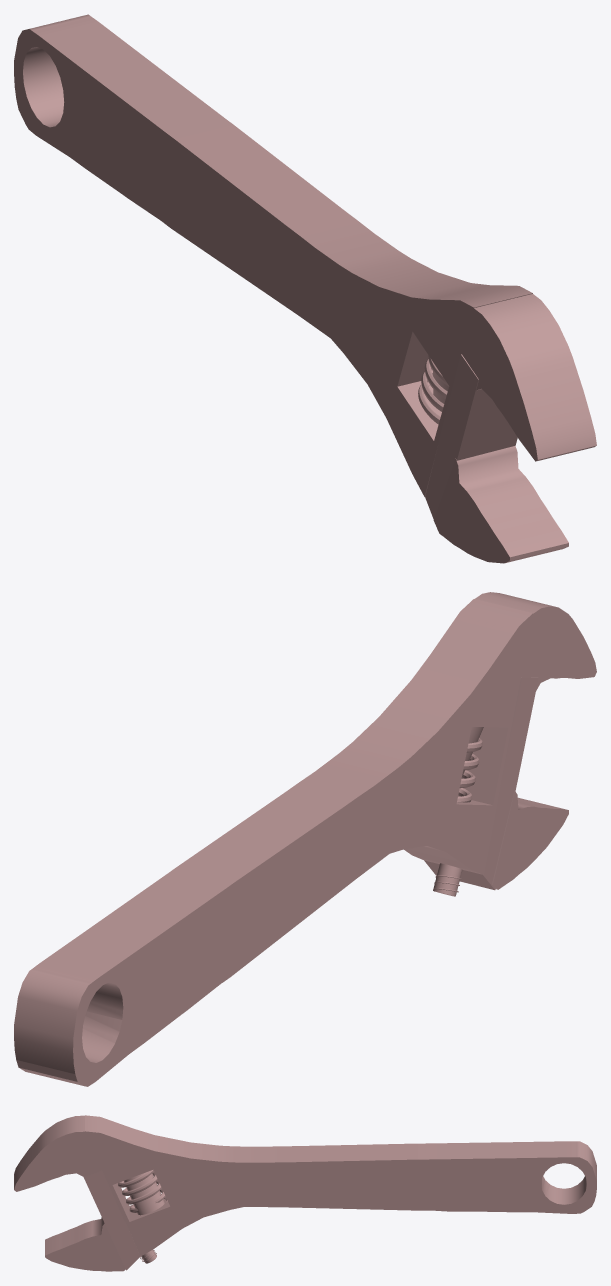
The model's file is wrench.fbx.
3 renders of one model, top to bottom at view 1: azimuth 30°, elevation 25°; view 2: azimuth 150°, elevation 25°; view 3: azimuth 270°, elevation 25°, orthographic. The views are drawn at different scales.
Visible parts, largest first — view 1: pCube8; view 2: pCube8; view 3: pCube8.
Part boxes in pixels (<box>): pCube8: <box>14,14,596,563</box>; pCube8: <box>14,592,596,1086</box>; pCube8: <box>14,1115,596,1271</box>.
Size of the model in its own units: 6.38 by 25.21 by 94.97.
